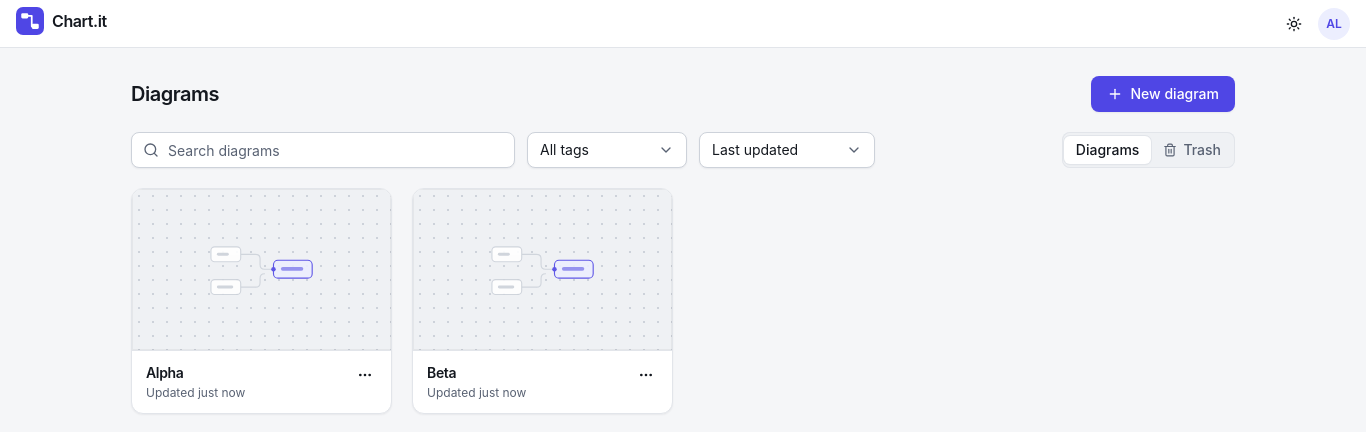
Scenario: Dashboard › filters by search text
expect the element "Alpha" is shown: met, box 131,188 -> 392,414
Step 1. Type "bet" into the search field labelled "Search diagrams" → (323, 150), box 131,132 -> 515,168
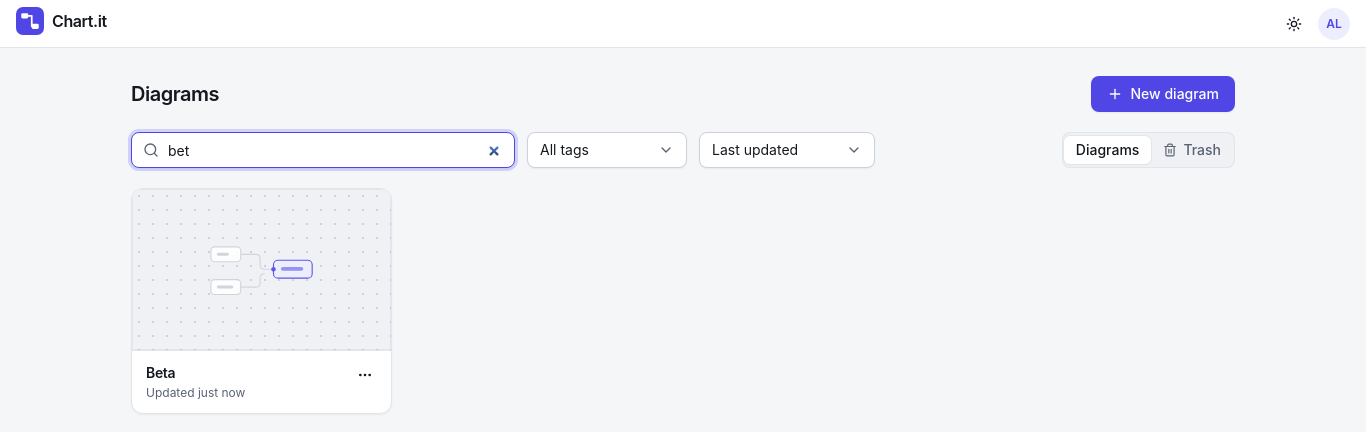
expect the element "Beta" is shown: met, box 131,188 -> 392,414
expect the link "Alpha" is gone: met
